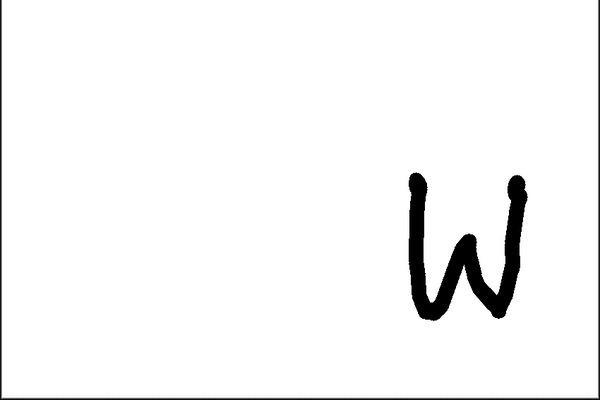w: (387, 154, 541, 339)
